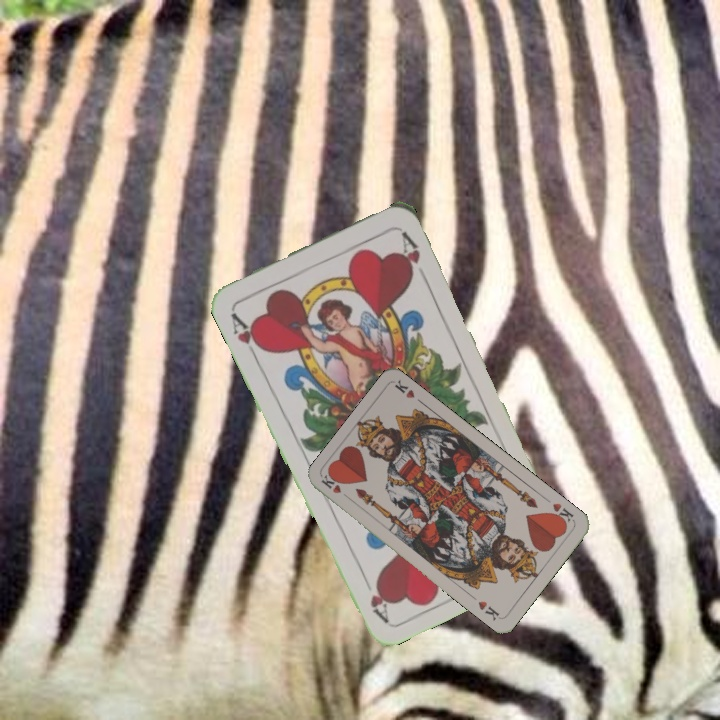HA: (227, 308, 268, 362)
HK: (317, 471, 354, 503), (547, 499, 577, 527)
